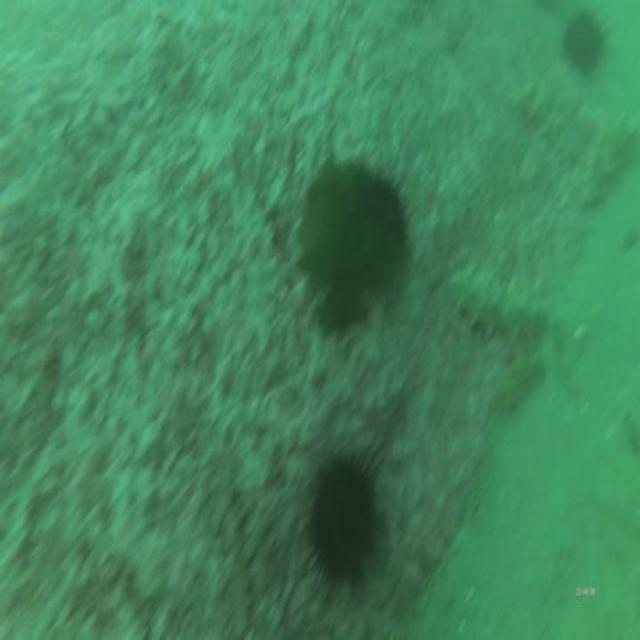echinus: (294, 153, 411, 310), (299, 450, 386, 602), (558, 6, 611, 81)
holothurian: (446, 254, 556, 351), (576, 108, 640, 220), (510, 74, 584, 168), (484, 349, 546, 424)
